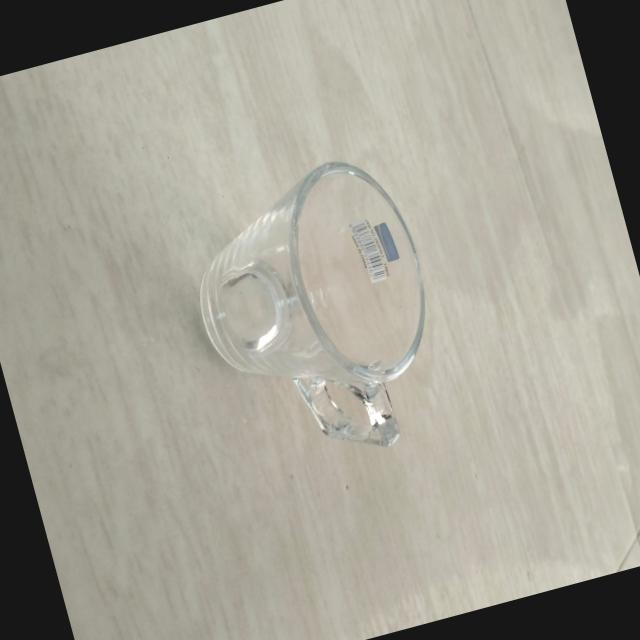glass-VX4N: (164, 138, 472, 486)
